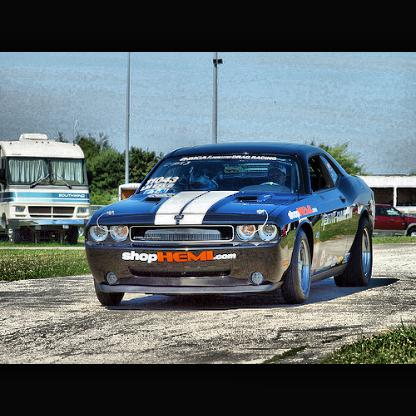Dodge Challenger SRT8 2011: (87, 145, 377, 309)
